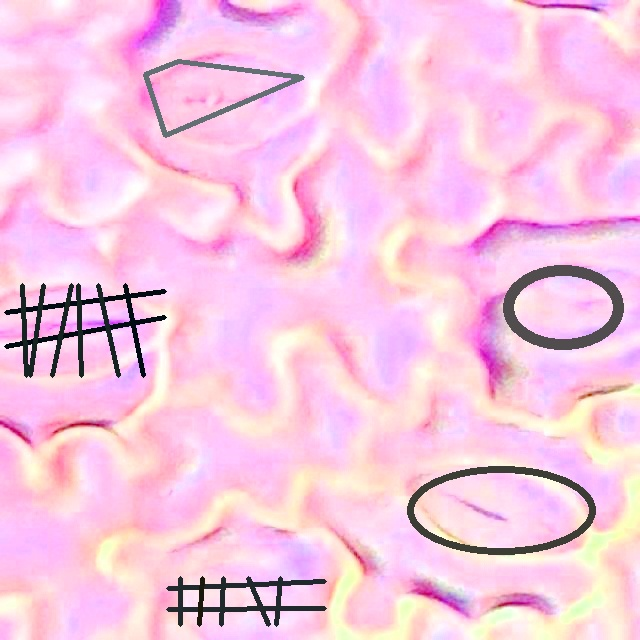open: (406, 467, 595, 553), (4, 283, 166, 377), (143, 59, 304, 137), (502, 265, 624, 348), (166, 576, 326, 625)
